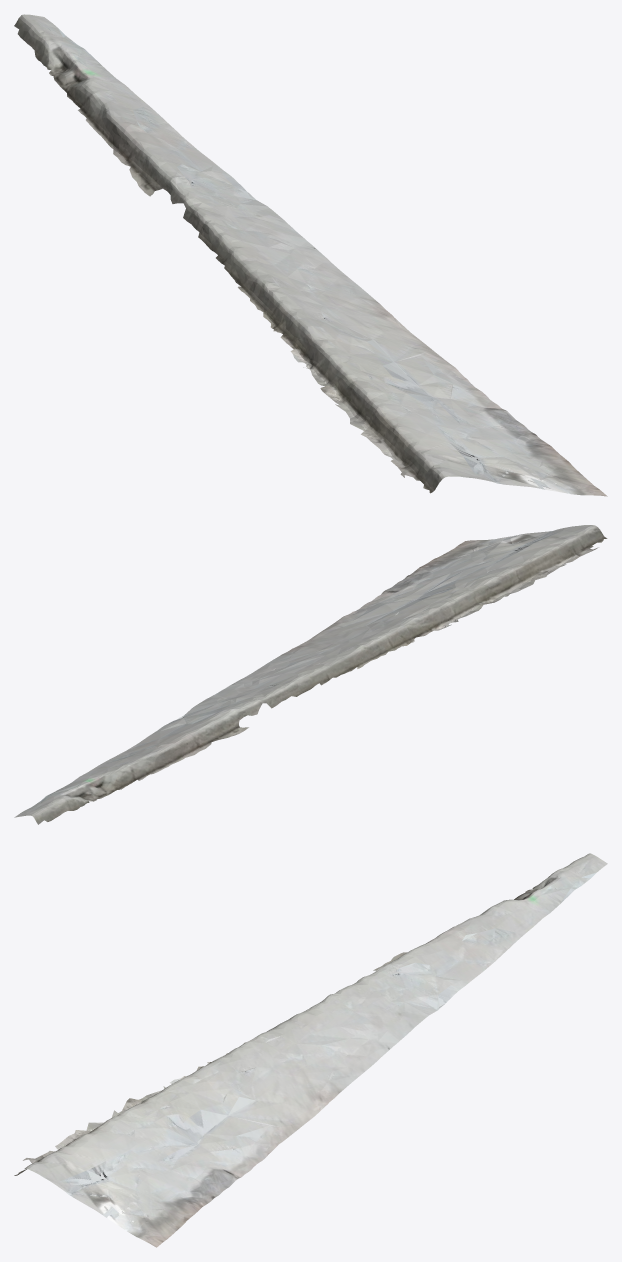
3 views of the same model, one above another, from view 1: azimuth 30°, elevation 25°; view 2: azimuth 150°, elevation 25°; view 3: azimuth 330°, elevation 25° (orthographic). The views are drawn at different scales.
Bounding box in the file's own units: 0.9595 × 0.3703 × 5.05.
Materials: 1 (1 with a texture image).
